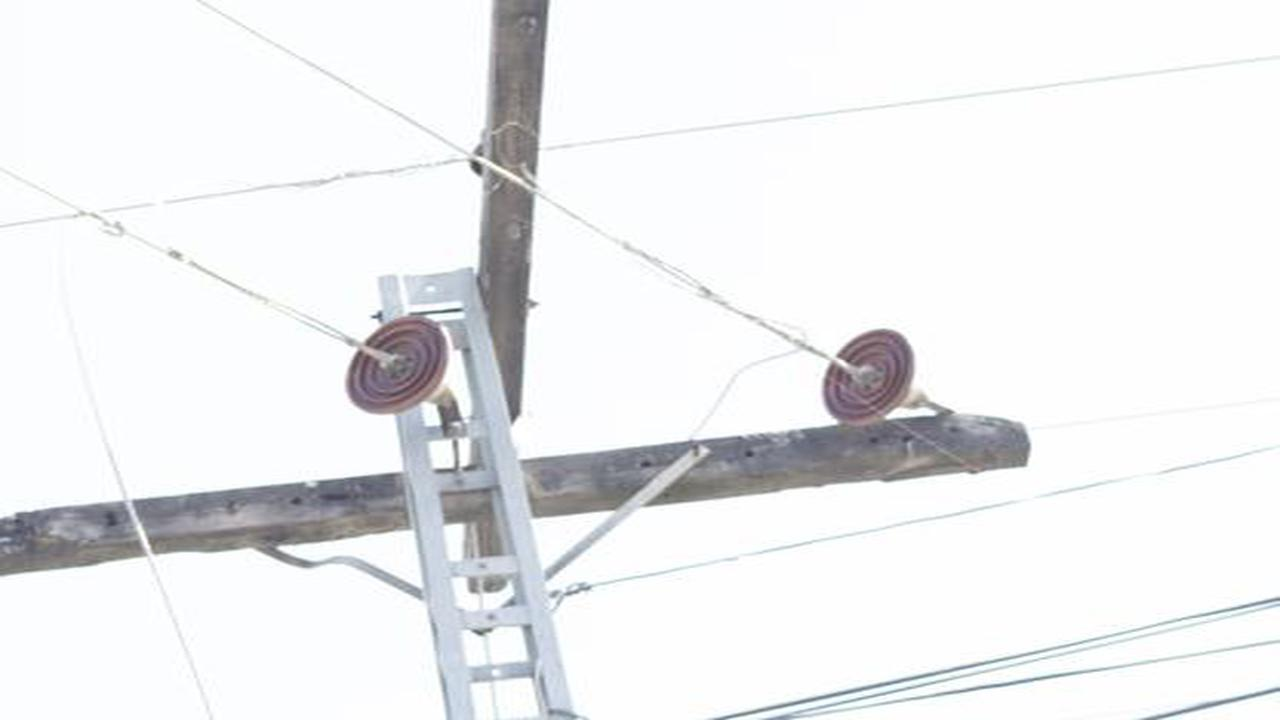insulator_disc: (338, 311, 454, 419), (813, 326, 917, 434)
